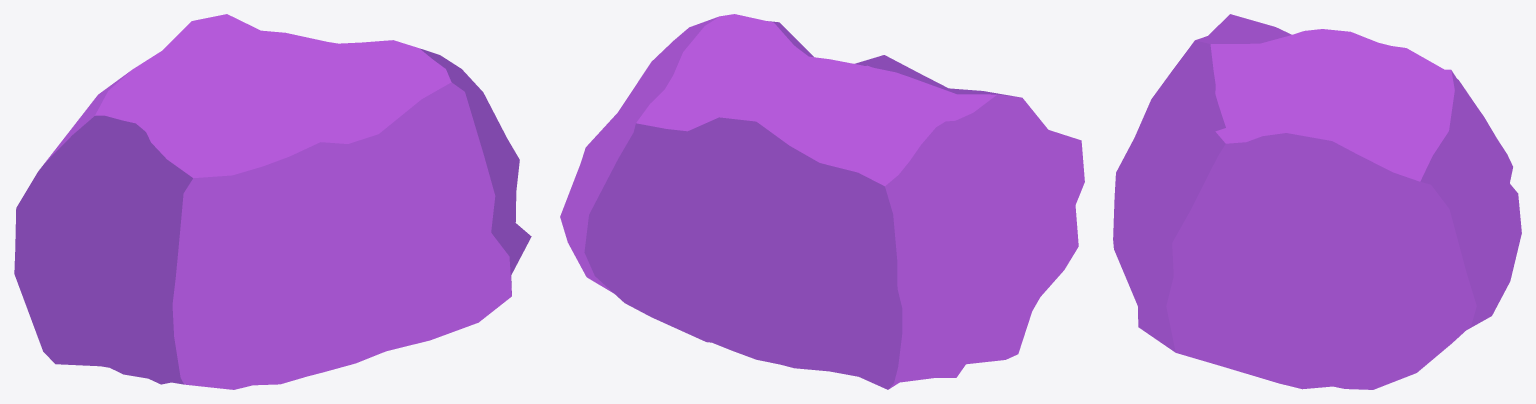
Rendered from AmethystThing.fbx.
3 views of the same model, side by side, from view 1: azimuth 30°, elevation 25°; view 2: azimuth 150°, elevation 25°; view 3: azimuth 270°, elevation 25° (orthographic). The views are drawn at different scales.
Visible parts, largest first — view 1: Cube; view 2: Cube; view 3: Cube.
Part boxes in pixels (x1,y1,x2,y2): Cube: [14, 14, 531, 389]; Cube: [560, 14, 1084, 389]; Cube: [1113, 14, 1521, 389].
Size of the model in its own units: 685 by 393 by 543.
